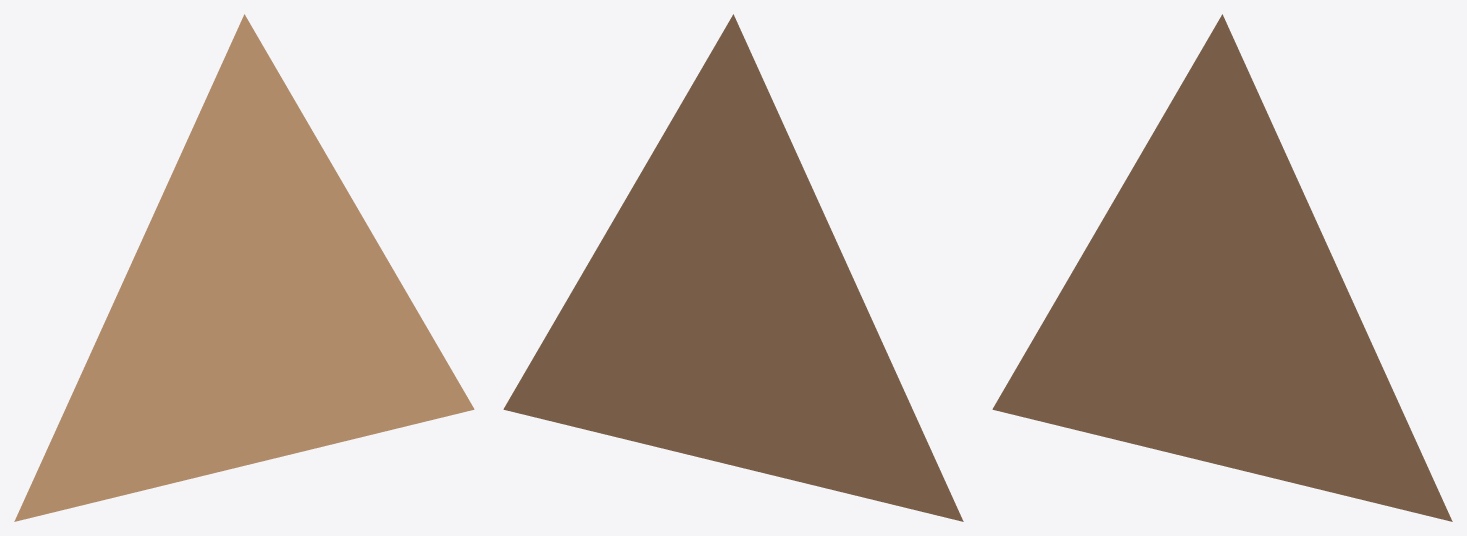
The model's file is triangle.gltf.
The picture shows the model from 3 angles, left to right: view 1: azimuth 30°, elevation 25°; view 2: azimuth 150°, elevation 25°; view 3: azimuth 330°, elevation 25°; orthographic projection.
Bounding box in the file's own units: 1.6 × 1.5 × 0.
